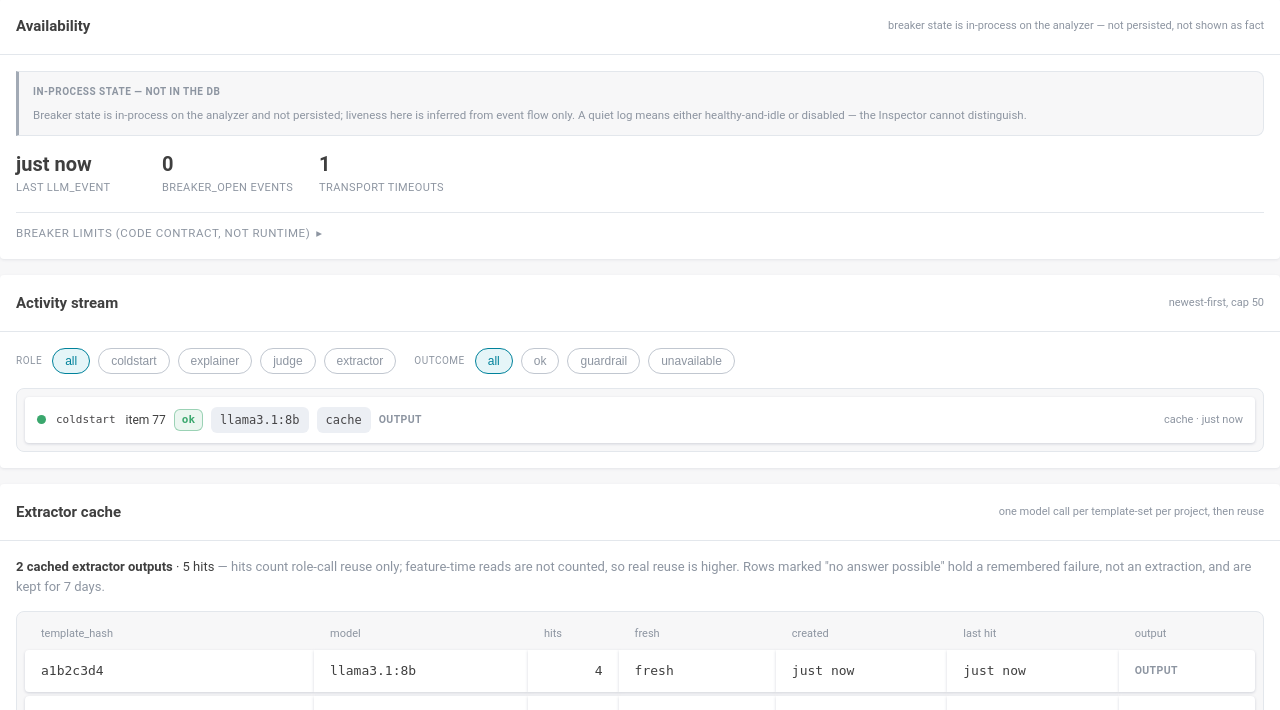
Test: LLM view › refetches events with the picked role and permalinks it as lrole
(page scrolled)
Check: the text "Activity stream" is shown, box [16,291,118,315]
What coordinates should you click on to do the following:
click the button "judge"
I would click on:
 (288, 361)
Its box is [260,348,316,374].
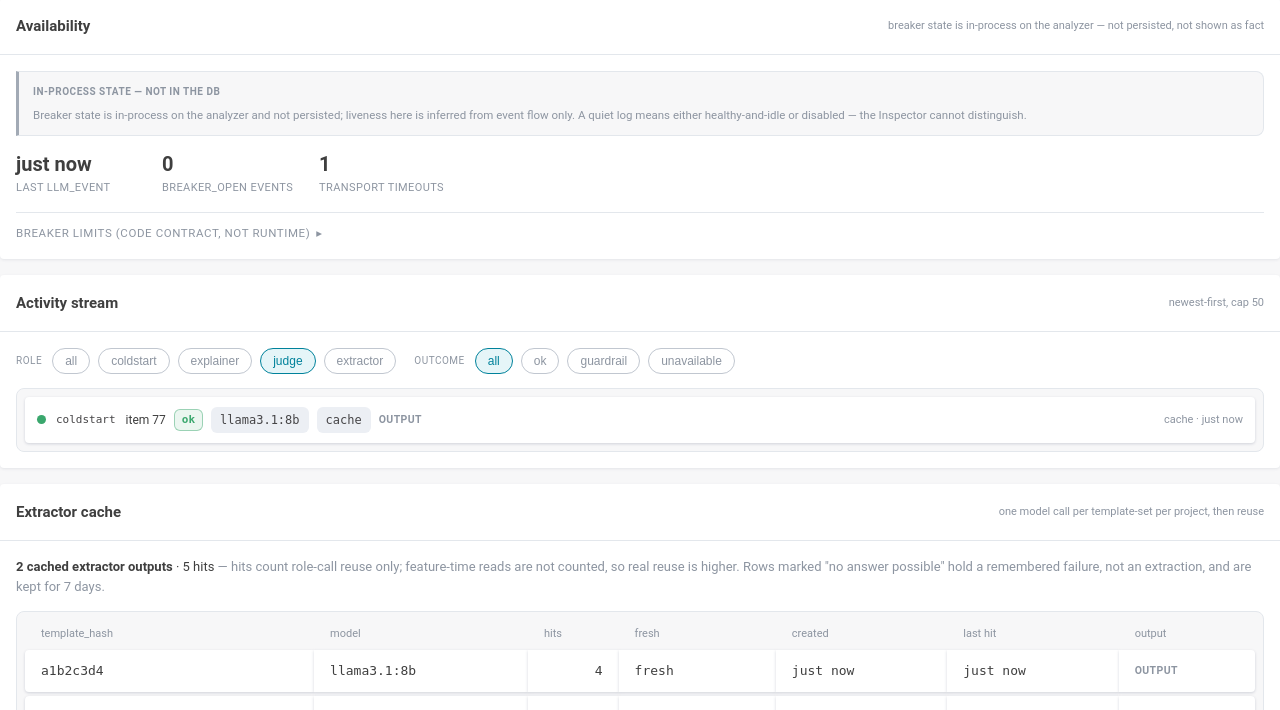
Check: the button "judge" has class "on", box [260,348,316,374]
